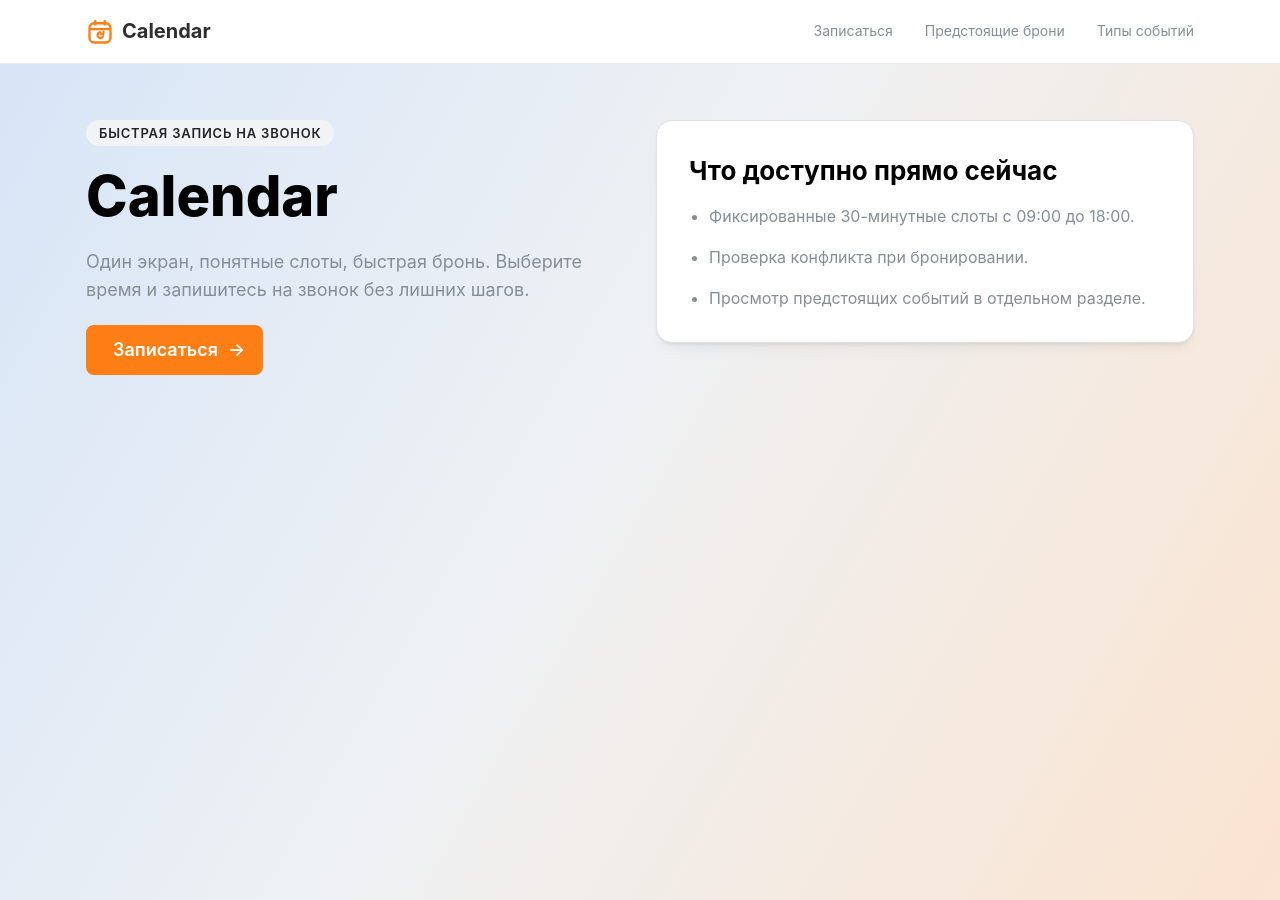
Test: AppRoutes › переходит между разделами по ссылкам шапки
Click the link "Предстоящие брони". click: coordinates (995, 31)
box: [925, 21, 1065, 42]
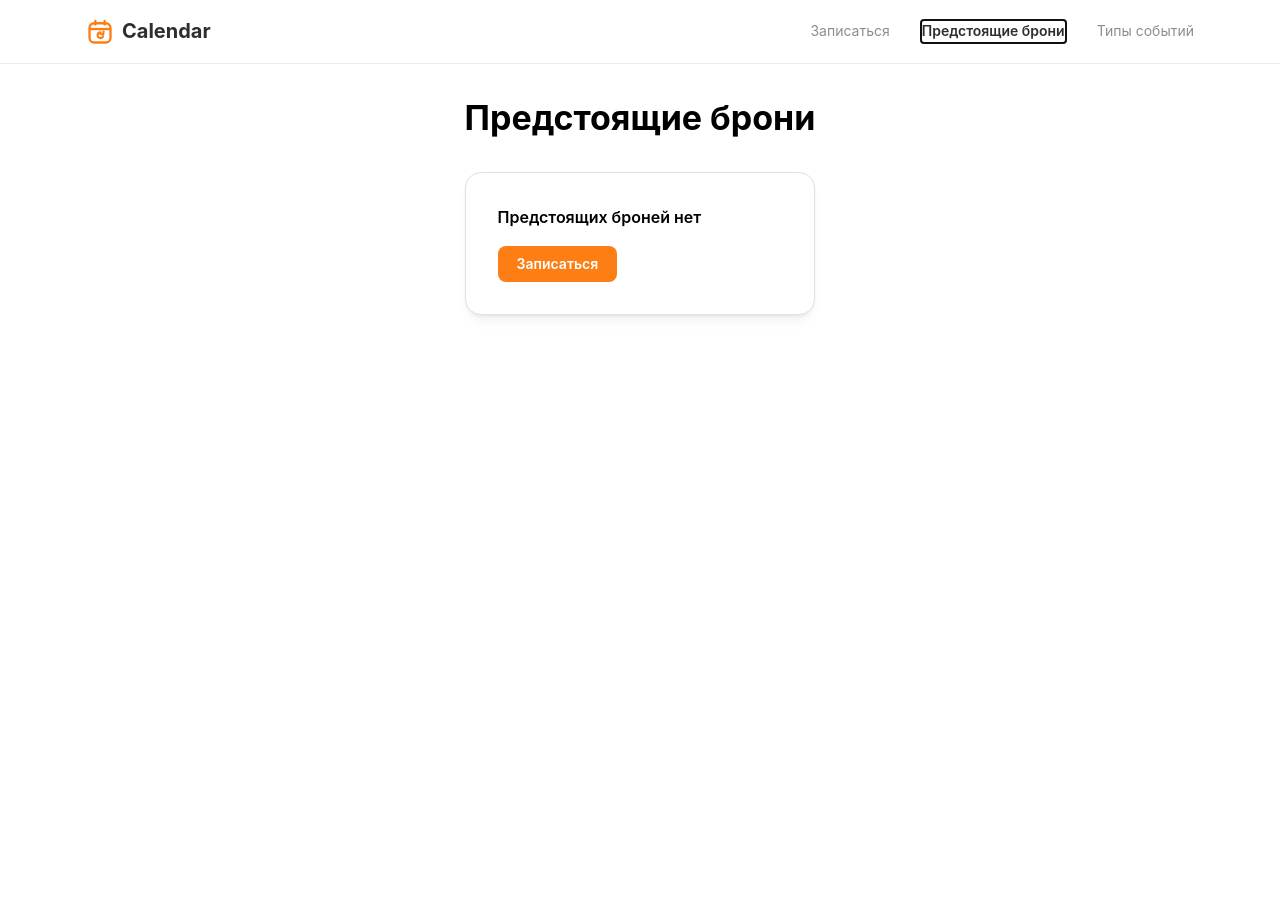
Expected: the heading "Предстоящие брони" is shown, [465, 96, 815, 140]
Click the link "Типы событий". click: coordinates (1145, 31)
box: [1097, 21, 1194, 42]
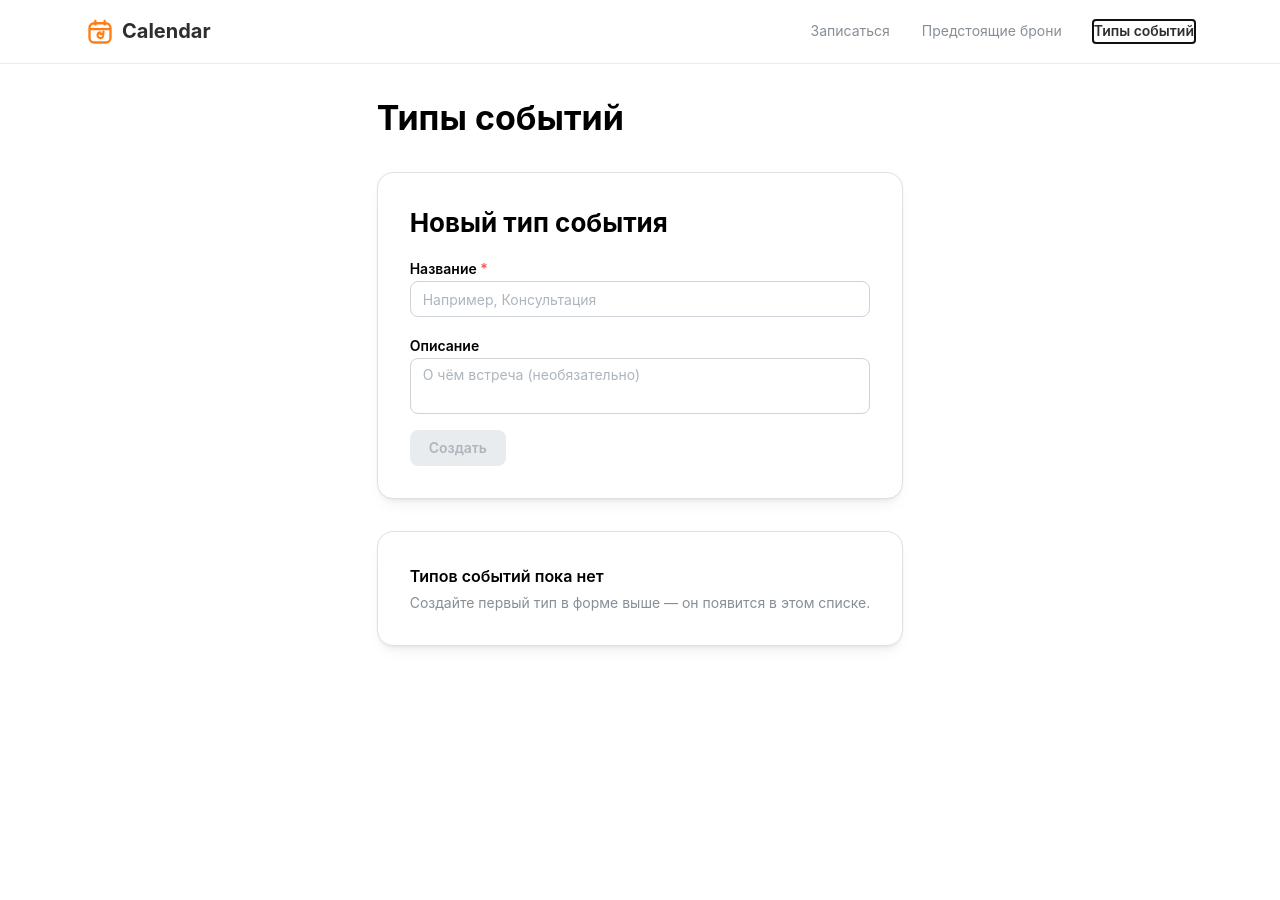
Expected: the heading "Типы событий" is shown, [377, 97, 624, 138]
